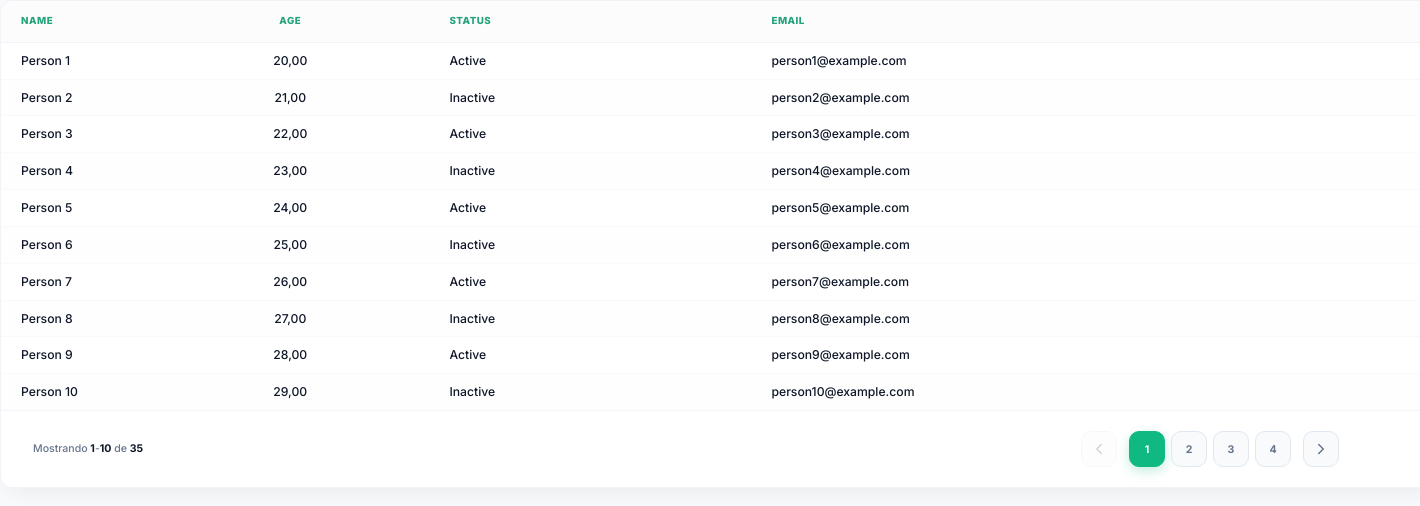
Test case: ModernTable Integration Tests › Pagination › navigates to next page
Expected: the text "Person 1" is shown, [1,42,151,79]
Click the 6th button at coordinates (1321, 449), box [1303,431,1339,467]
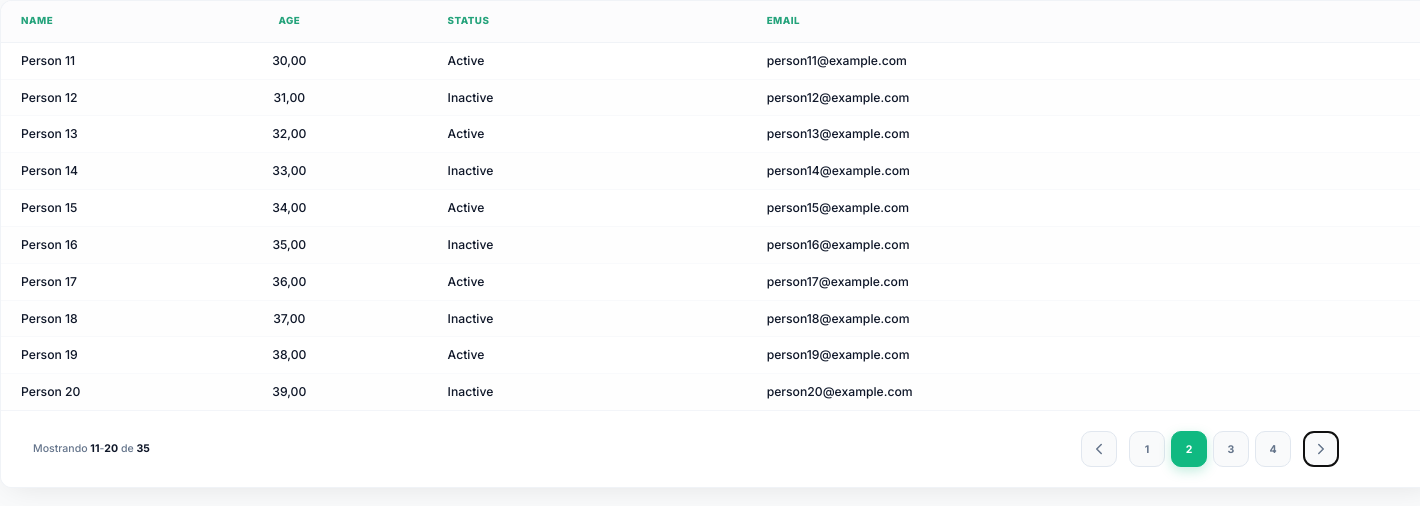
Now the text "Person 11" is shown, box [1,42,151,79]
Now the text "Mostrando 11-20 de 35" is shown, box [33,442,150,456]
